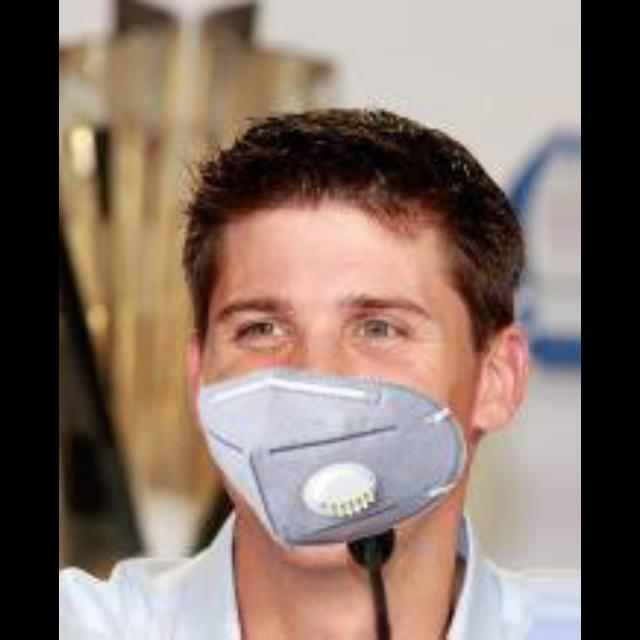suspicion: (187, 130, 498, 548)
